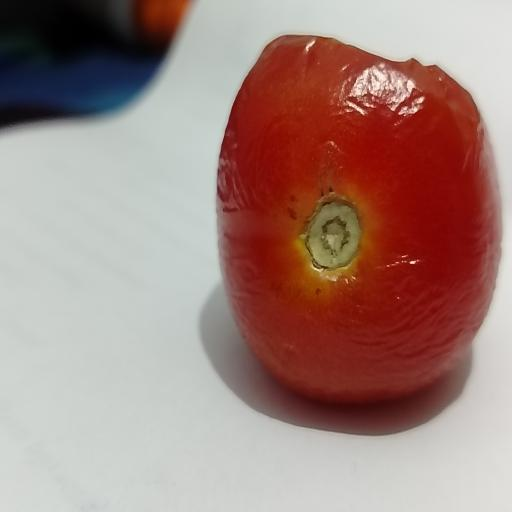spoiled: (217, 36, 501, 402)
